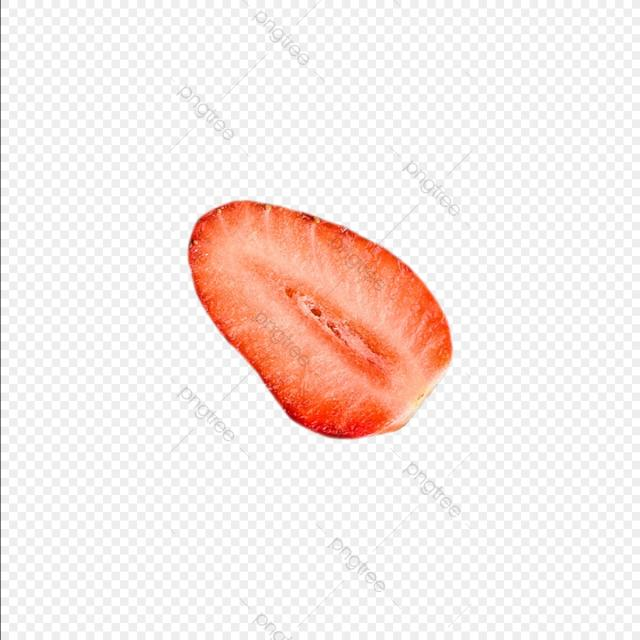strawberry: (156, 178, 474, 445)
